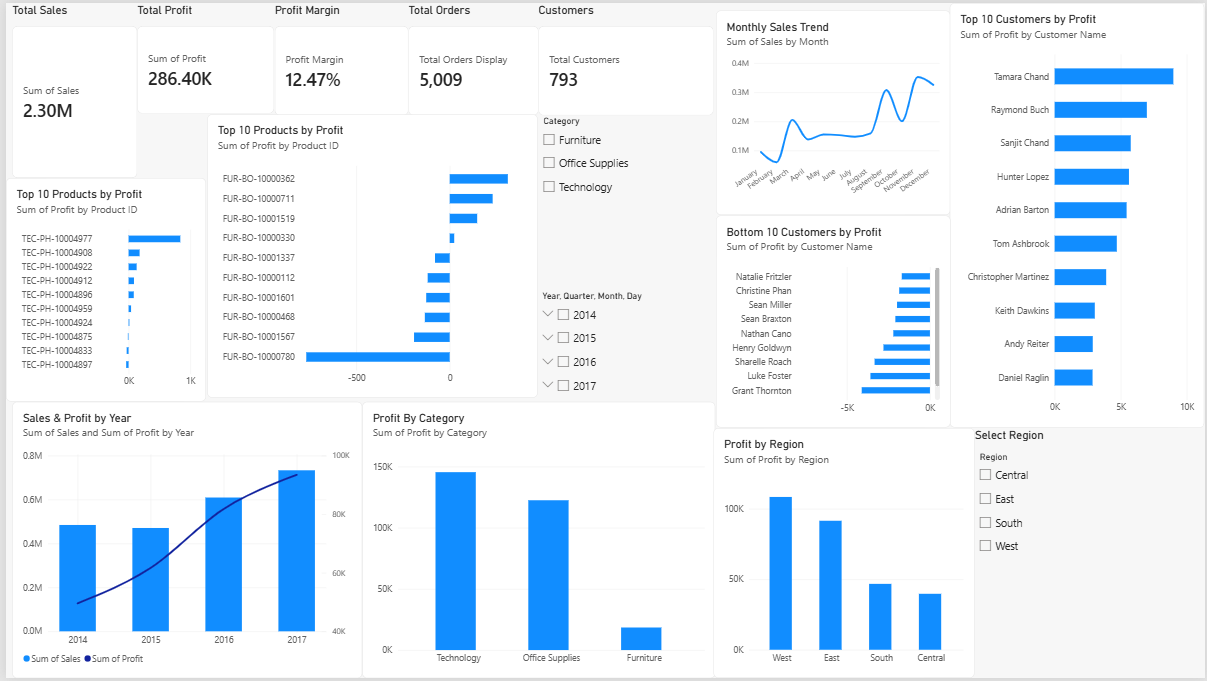

What the dashboard file says about the page in this screenshot:
{"tool":"powerbi","page":{"name":"Executive Overview","canvas":[1920,1080],"ordinal":0},"visuals":[{"type":"cardVisual","title":"Total Sales","fields":{"Data":["Sum(cleaned_superstore.Sales)"]},"box":[10,0,200,280],"z":0},{"type":"cardVisual","title":"Total Profit","fields":{"Data":["Sum(cleaned_superstore.Profit)"]},"box":[210.3,0,219.3,177.2],"z":1000},{"type":"cardVisual","title":"Profit Margin","fields":{"Data":["cleaned_superstore.Profit Margin"]},"box":[430,0,214,180],"z":2000},{"type":"cardVisual","title":"Total Orders","fields":{"Data":["cleaned_superstore.Total Orders Display"]},"box":[644,0,208,180],"z":3000},{"type":"cardVisual","title":"Customers","fields":{"Data":["cleaned_superstore.Total Customers"]},"box":[852,0,280,180],"z":4000},{"type":"lineClusteredColumnComboChart","title":"Sales & Profit by Year","fields":{"Category":["cleaned_superstore.Order Date.Variation.Date Hierarchy.Year"],"Y2":["Sum(cleaned_superstore.Profit)"],"Y":["Sum(cleaned_superstore.Sales)"]},"box":[10,637.5,560,442.5],"z":5000},{"type":"clusteredColumnChart","title":"Profit By Category","fields":{"Category":["cleaned_superstore.Category"],"Y":["Sum(cleaned_superstore.Profit)"]},"box":[570,637.5,565,442.5],"z":6000},{"type":"clusteredColumnChart","title":"Profit by Region","fields":{"Category":["cleaned_superstore.Region"],"Y":["Sum(cleaned_superstore.Profit)"]},"box":[1132.5,680,417.5,400],"z":7000},{"type":"lineChart","title":"Monthly Sales Trend","fields":{"Category":["cleaned_superstore.Order Date.Variation.Date Hierarchy.Year","cleaned_superstore.Order Date.Variation.Date Hierarchy.Month"],"Y":["Sum(cleaned_superstore.Sales)"]},"box":[1135,12.5,375,327.5],"z":8000},{"type":"slicer","fields":{"Values":["cleaned_superstore.Order Date.Variation.Date Hierarchy.Year","cleaned_superstore.Order Date.Variation.Date Hierarchy.Quarter","cleaned_superstore.Order Date.Variation.Date Hierarchy.Month","cleaned_superstore.Order Date.Variation.Date Hierarchy.Day"]},"box":[850.1,459.6,282.4,171.2],"z":9000},{"type":"clusteredBarChart","title":"Top 10 Customers by Profit","fields":{"Y":["Sum(cleaned_superstore.Profit)"],"Category":["cleaned_superstore.Customer Name"]},"box":[1510.9,0,408.5,678.9],"z":10000},{"type":"clusteredBarChart","title":"Bottom 10 Customers by Profit","fields":{"Y":["Sum(cleaned_superstore.Profit)"],"Category":["cleaned_superstore.Customer Name"]},"box":[1135.4,339.4,375.5,339.4],"z":11000},{"type":"slicer","title":"Select Region","fields":{"Values":["cleaned_superstore.Region"]},"box":[1550,680,370,400],"z":12000},{"type":"slicer","fields":{"Values":["cleaned_superstore.Category"]},"box":[852.5,180,282.5,317.5],"z":13000},{"type":"clusteredBarChart","title":"Top 10 Products by Profit","fields":{"Y":["Sum(cleaned_superstore.Profit)"],"Category":["cleaned_superstore.Product ID"]},"box":[0,280,320,357.5],"z":14000},{"type":"clusteredBarChart","title":"Top 10 Products by Profit","fields":{"Y":["Sum(cleaned_superstore.Profit)"],"Category":["cleaned_superstore.Product ID"]},"box":[321.4,177.2,528.7,453.6],"z":15000}]}

Visuals, with their boxes in screenshot pixels (x1, y1, x2, y2), scaled from the page's 1920x1080 canvas onto the 1207x681 screenshot:
"Total Sales" cardVisual: x1=6 y1=0 x2=132 y2=177
"Total Profit" cardVisual: x1=132 y1=0 x2=270 y2=112
"Profit Margin" cardVisual: x1=270 y1=0 x2=405 y2=114
"Total Orders" cardVisual: x1=405 y1=0 x2=536 y2=114
"Customers" cardVisual: x1=536 y1=0 x2=712 y2=114
"Sales & Profit by Year" lineClusteredColumnComboChart: x1=6 y1=402 x2=358 y2=680
"Profit By Category" clusteredColumnChart: x1=358 y1=402 x2=714 y2=680
"Profit by Region" clusteredColumnChart: x1=712 y1=429 x2=974 y2=680
"Monthly Sales Trend" lineChart: x1=714 y1=8 x2=949 y2=214
slicer - cleaned_superstore.Order Date.Variation.Date Hierarchy.Year x cleaned_superstore.Order Date.Variation.Date Hierarchy.Quarter: x1=534 y1=290 x2=712 y2=398
"Top 10 Customers by Profit" clusteredBarChart: x1=950 y1=0 x2=1206 y2=428
"Bottom 10 Customers by Profit" clusteredBarChart: x1=714 y1=214 x2=950 y2=428
"Select Region" slicer: x1=974 y1=429 x2=1206 y2=680
slicer - cleaned_superstore.Category: x1=536 y1=114 x2=714 y2=314
"Top 10 Products by Profit" clusteredBarChart: x1=0 y1=177 x2=201 y2=402
"Top 10 Products by Profit" clusteredBarChart: x1=202 y1=112 x2=534 y2=398
